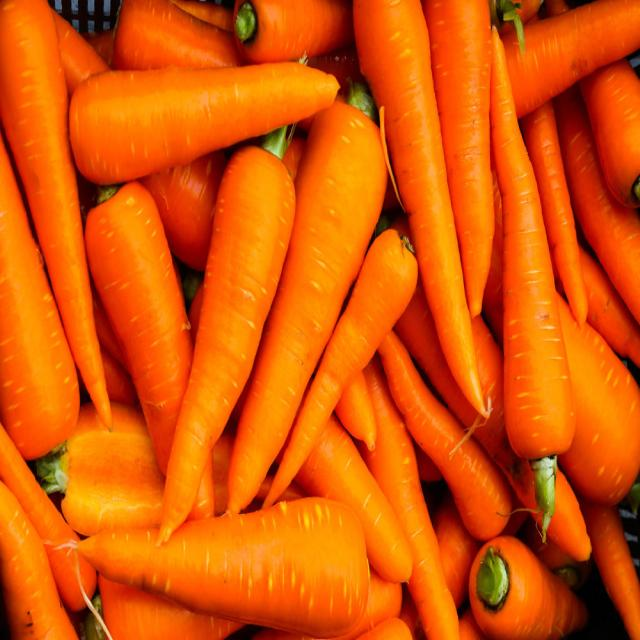Carrot: (77, 514, 407, 626)
